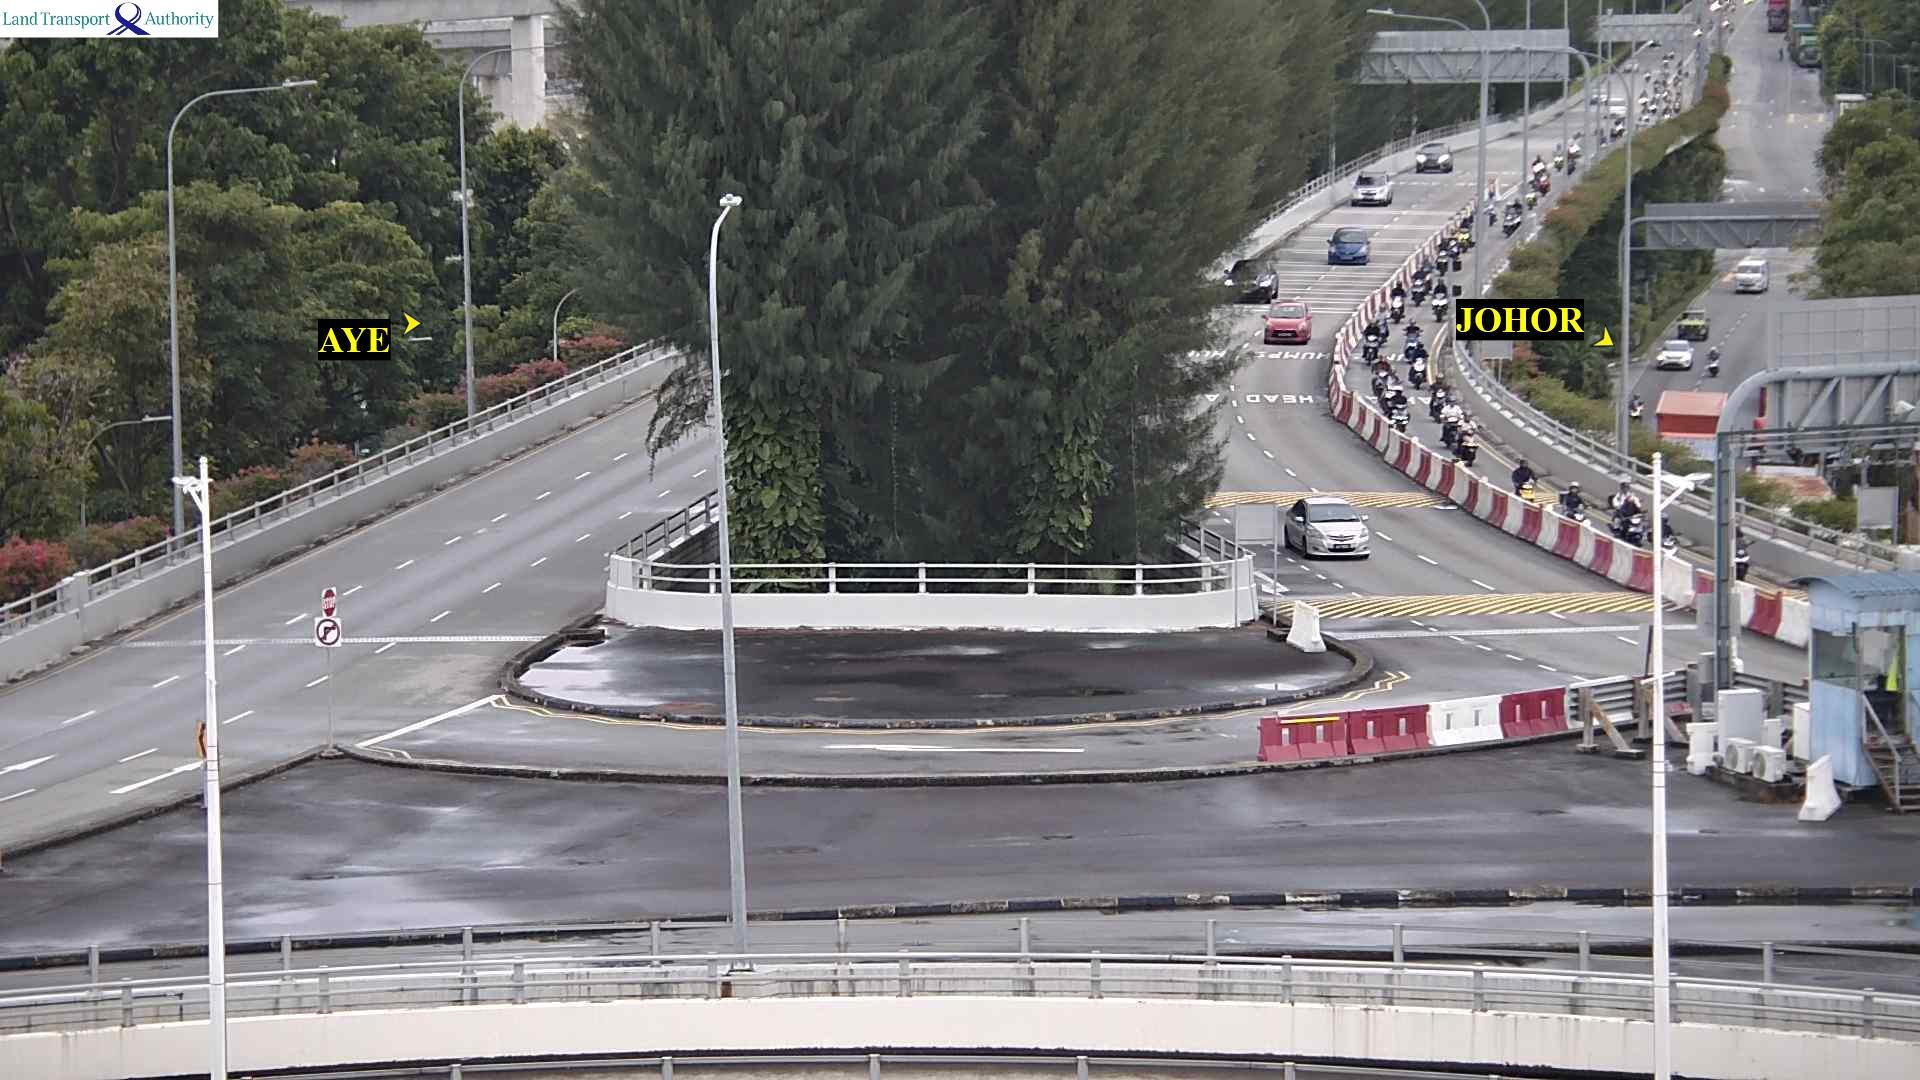vehicle-secondlink-johor: (1281, 495, 1369, 566), (1224, 260, 1280, 304), (1260, 304, 1313, 344), (1327, 228, 1377, 269), (1613, 481, 1642, 541), (1352, 171, 1392, 206), (1556, 480, 1586, 525), (1415, 143, 1453, 174), (1654, 515, 1681, 550), (1513, 459, 1535, 499), (1735, 525, 1750, 578), (1444, 397, 1459, 447), (1461, 411, 1476, 458), (1362, 316, 1378, 359), (1432, 279, 1448, 322), (1391, 281, 1407, 320), (1433, 374, 1447, 416), (1458, 213, 1472, 253), (1391, 389, 1405, 428), (1404, 318, 1417, 360), (1373, 359, 1390, 391), (1505, 199, 1521, 233), (1411, 265, 1424, 305), (1376, 303, 1388, 344), (1414, 344, 1424, 388), (1550, 141, 1563, 169), (1534, 151, 1544, 180), (1538, 173, 1550, 197)
